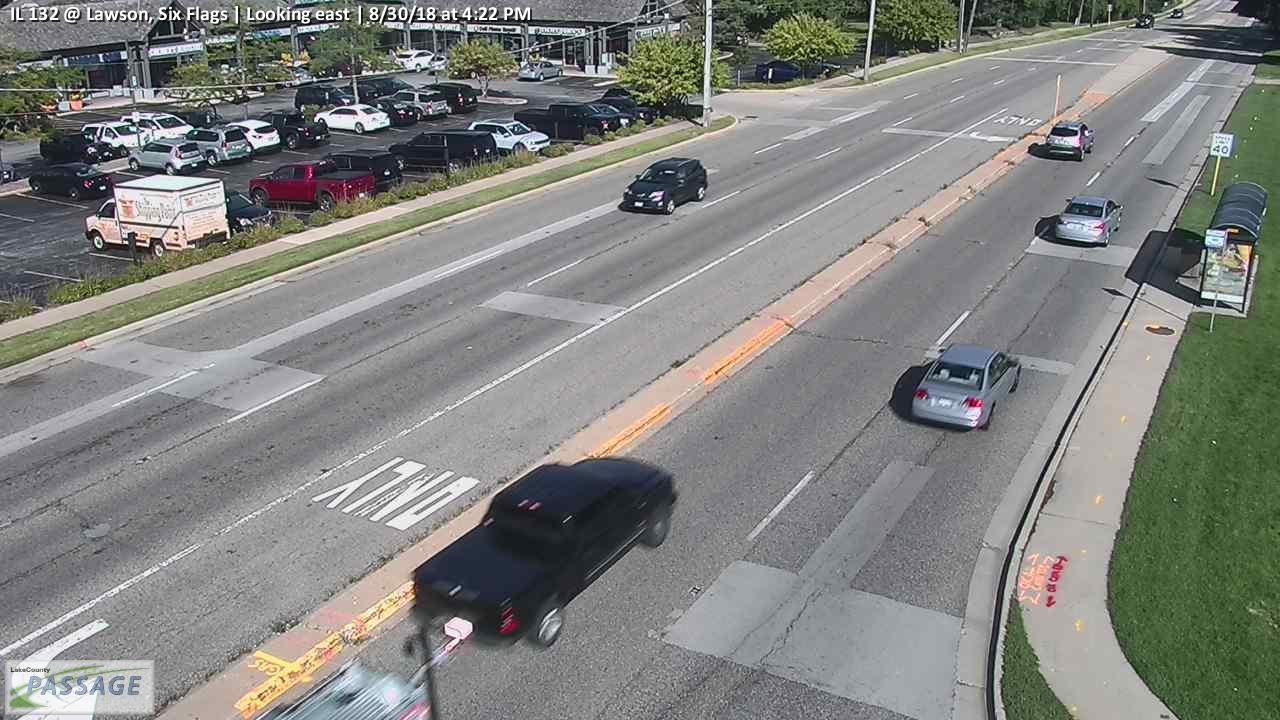SUV: (387, 129, 497, 174), (624, 158, 708, 214), (319, 149, 403, 192), (466, 119, 551, 157), (128, 138, 207, 178), (119, 112, 196, 153), (182, 124, 255, 167), (80, 120, 155, 156), (219, 119, 281, 157), (374, 89, 448, 120), (40, 130, 113, 161), (348, 75, 418, 106), (1046, 120, 1094, 162), (414, 83, 478, 113), (295, 83, 359, 109), (393, 48, 439, 70), (1135, 14, 1155, 28)
Sedan: (913, 342, 1022, 430), (1055, 195, 1124, 247), (29, 161, 112, 202), (313, 104, 390, 134), (755, 56, 841, 81), (362, 98, 416, 125), (519, 61, 564, 81), (1171, 8, 1184, 17)
Truck: (413, 456, 677, 648), (84, 173, 230, 258), (249, 158, 377, 211), (513, 102, 636, 145), (253, 111, 331, 150)
